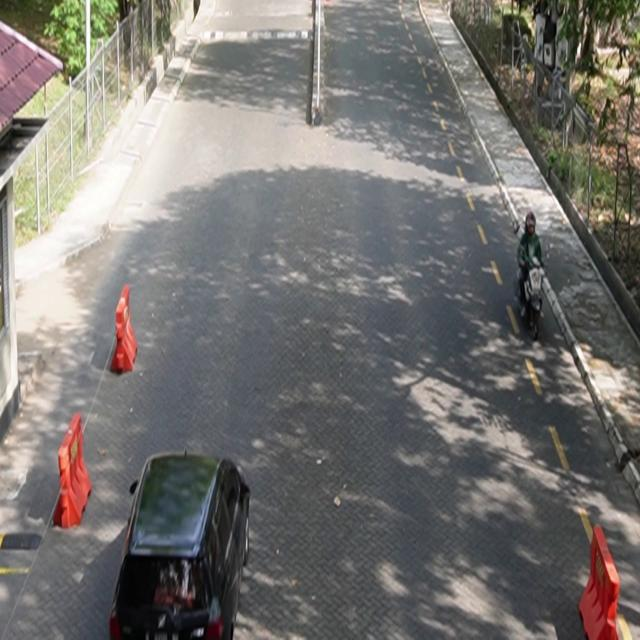car: (110, 450, 251, 640)
